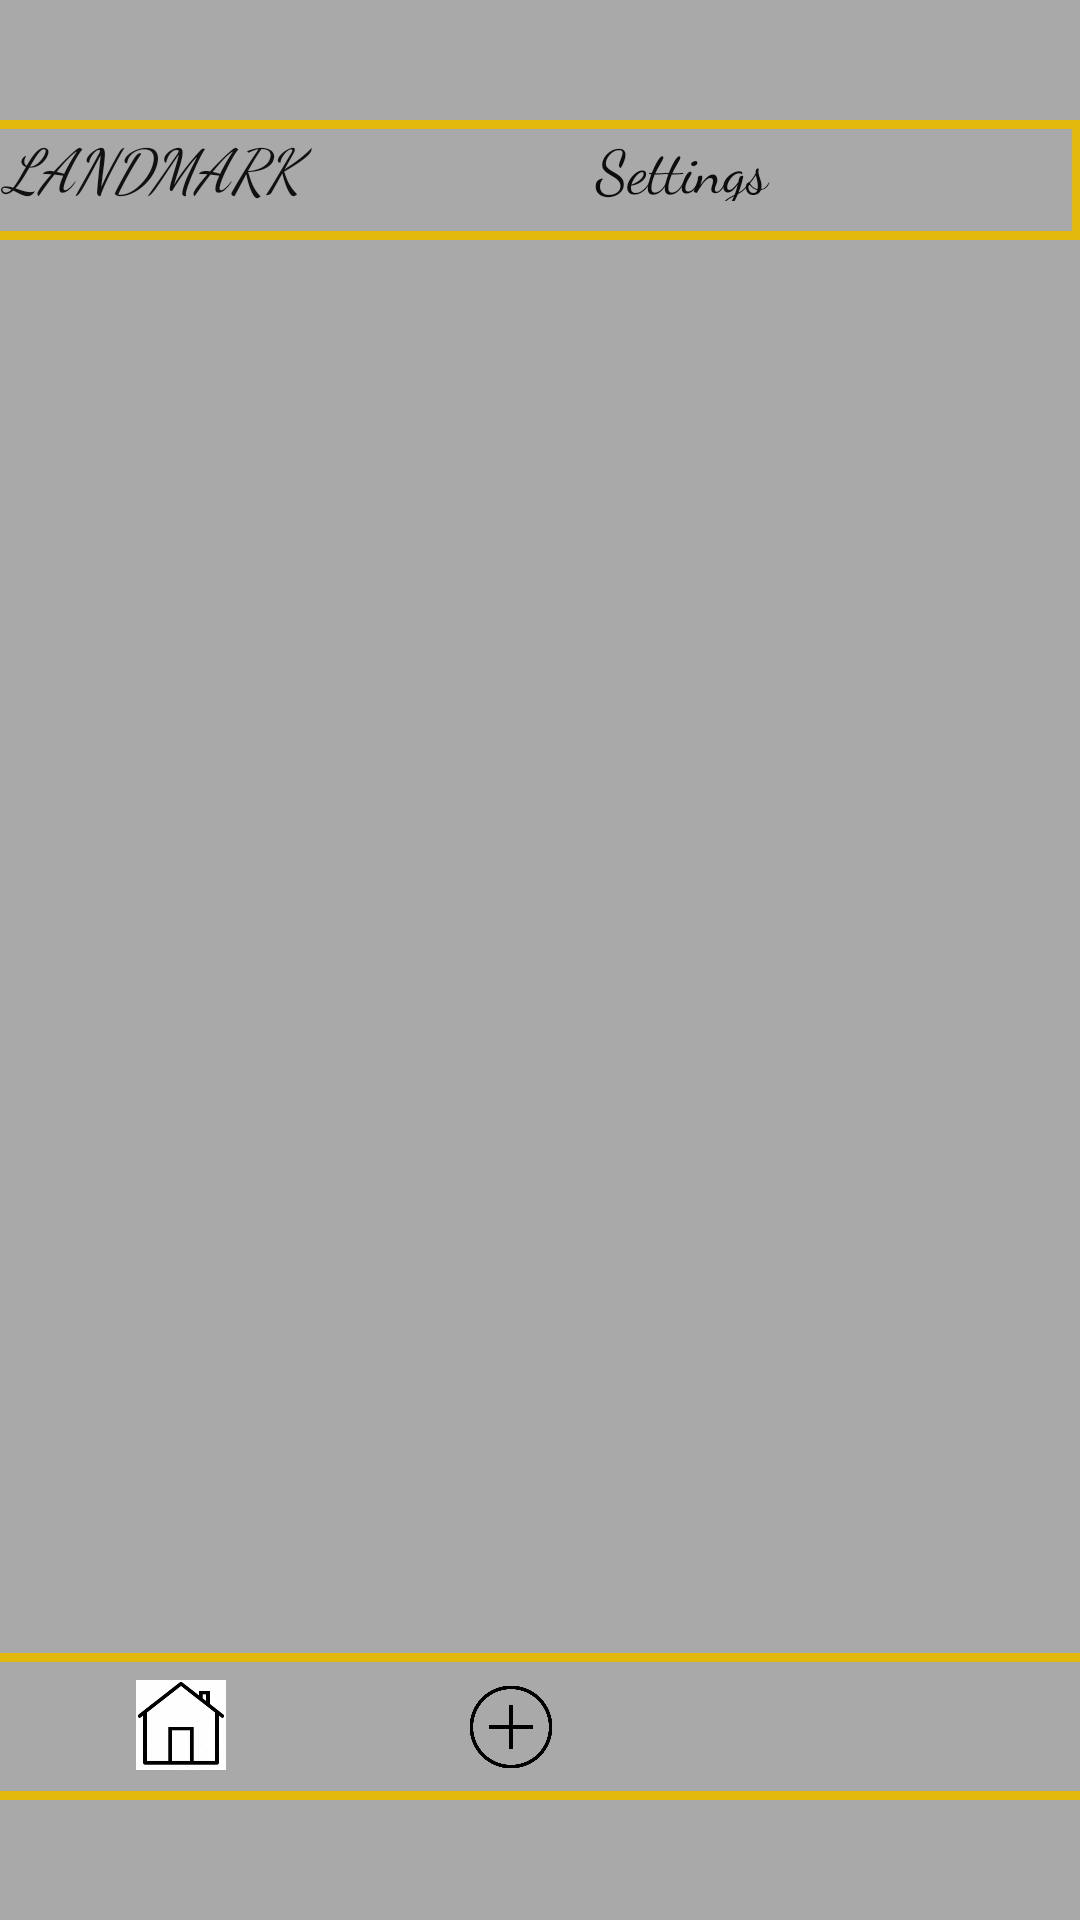

Icon click points for this 1080px×1920px phone screenshot, format (x,y):
home: (181,1725)
plus: (511,1727)
